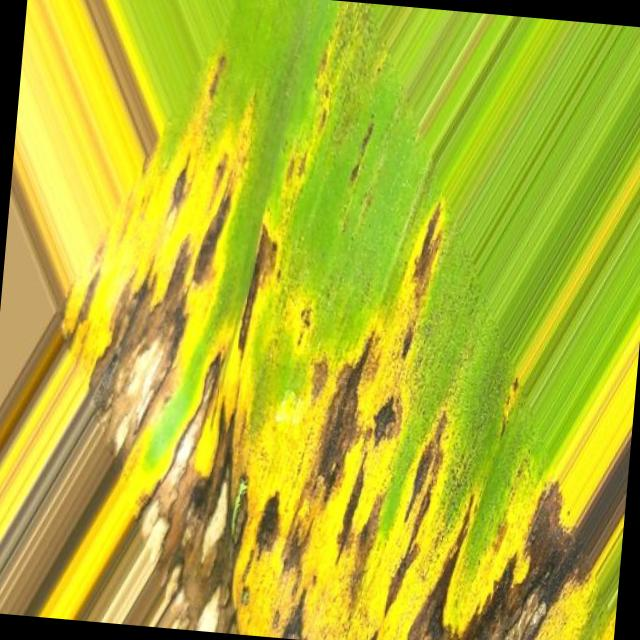Banana_Black_Sigatoka: (48, 184, 640, 640)
